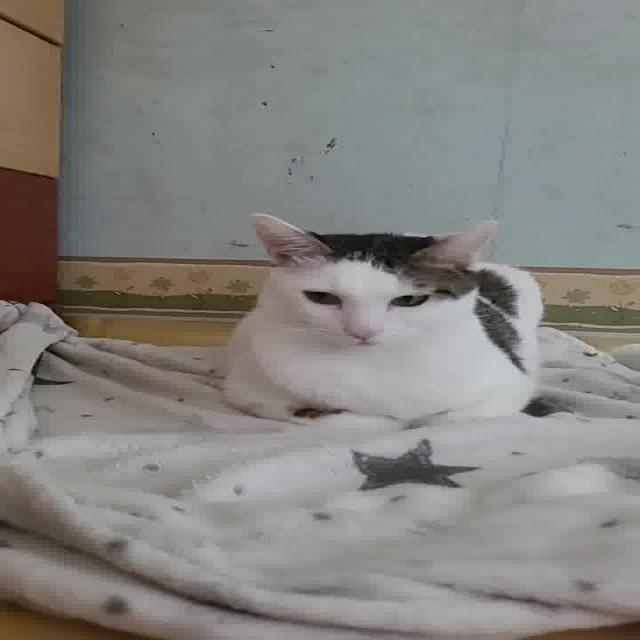cat: (208, 207, 556, 435)
